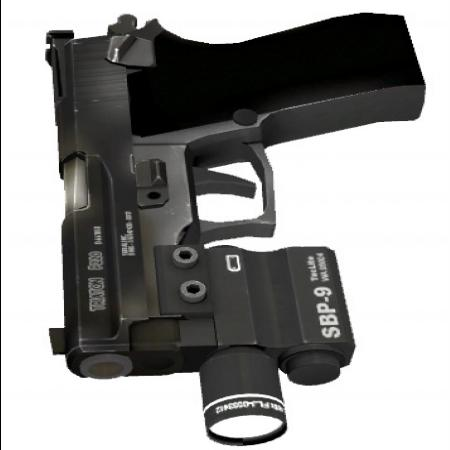Pistol: (40, 16, 426, 434)
